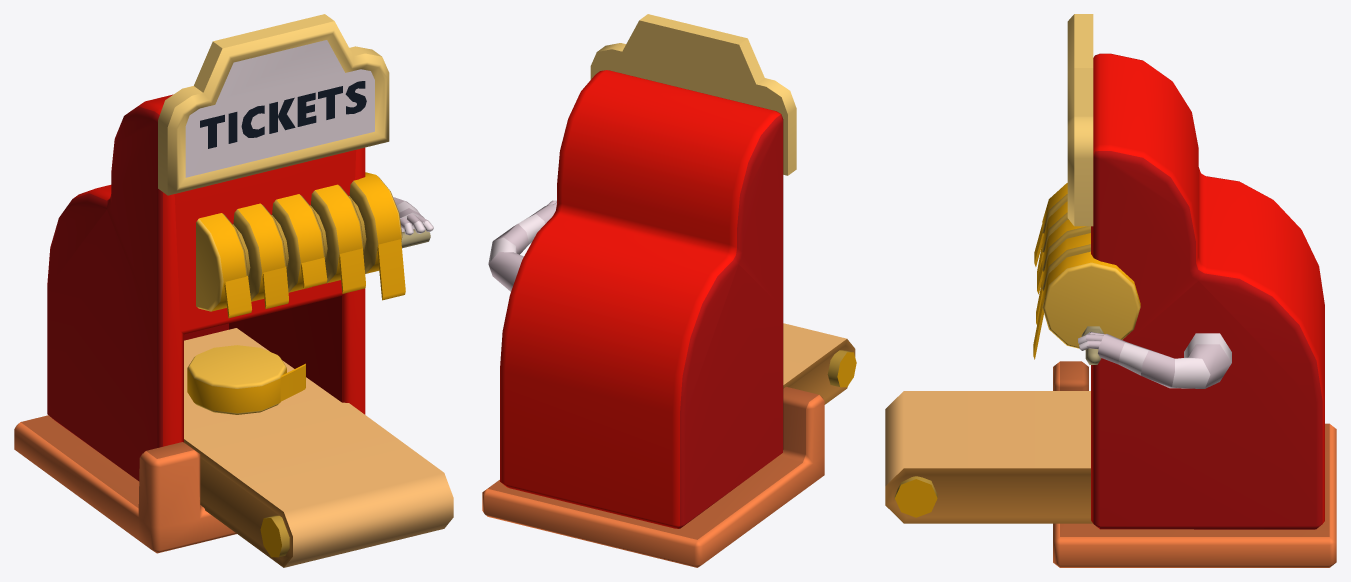
The model's file is Final_stock_cash.fbx.
3 views of the same model, side by side, from view 1: azimuth 30°, elevation 25°; view 2: azimuth 150°, elevation 25°; view 3: azimuth 270°, elevation 25° (orthographic). The views are drawn at different scales.
Visible parts, largest first — view 1: stock_cash; view 2: stock_cash; view 3: stock_cash.
Part boxes in pixels (left/top/right/bottom): stock_cash: left=14, top=14, right=453, bottom=567; stock_cash: left=482, top=14, right=856, bottom=567; stock_cash: left=885, top=14, right=1336, bottom=567.
Bounding box in the file's own units: 147 × 215 × 185.
